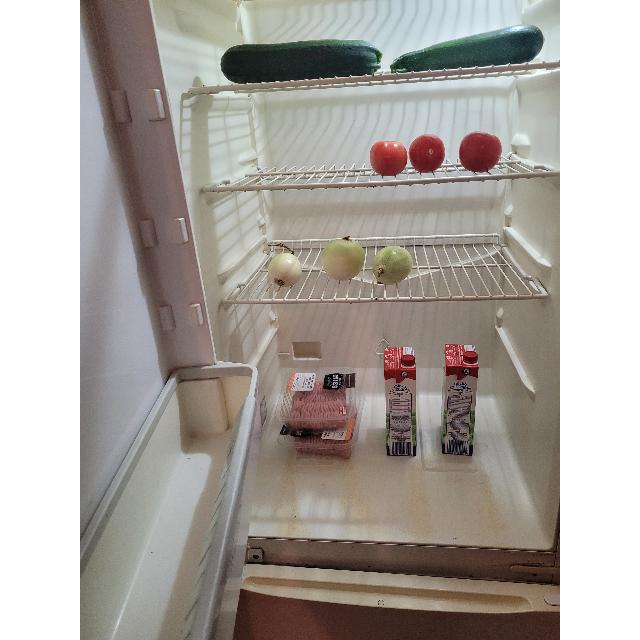meat: (292, 376, 348, 422), (288, 428, 346, 456)
milk: (442, 342, 480, 458), (383, 346, 415, 458)
onion: (321, 238, 365, 280), (373, 246, 413, 284), (267, 251, 303, 287)
tomato: (459, 132, 503, 172), (408, 134, 446, 174), (369, 140, 407, 178)
zucchini: (394, 24, 544, 72), (222, 40, 378, 82)
